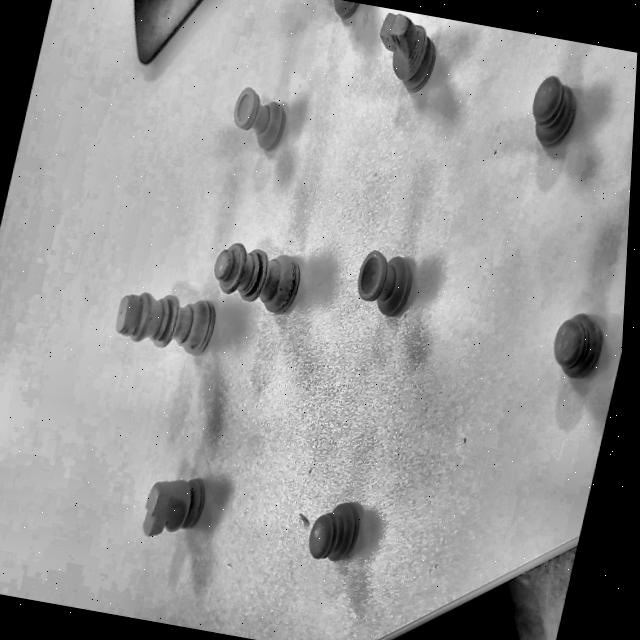white-king: (101, 278, 222, 376)
white-knight: (129, 452, 223, 558), (362, 8, 454, 92)
white-pawn: (511, 46, 610, 165), (285, 480, 392, 576), (541, 284, 625, 391)
white-queen: (208, 235, 325, 312)
white-rook: (336, 196, 451, 339), (222, 67, 309, 152)
